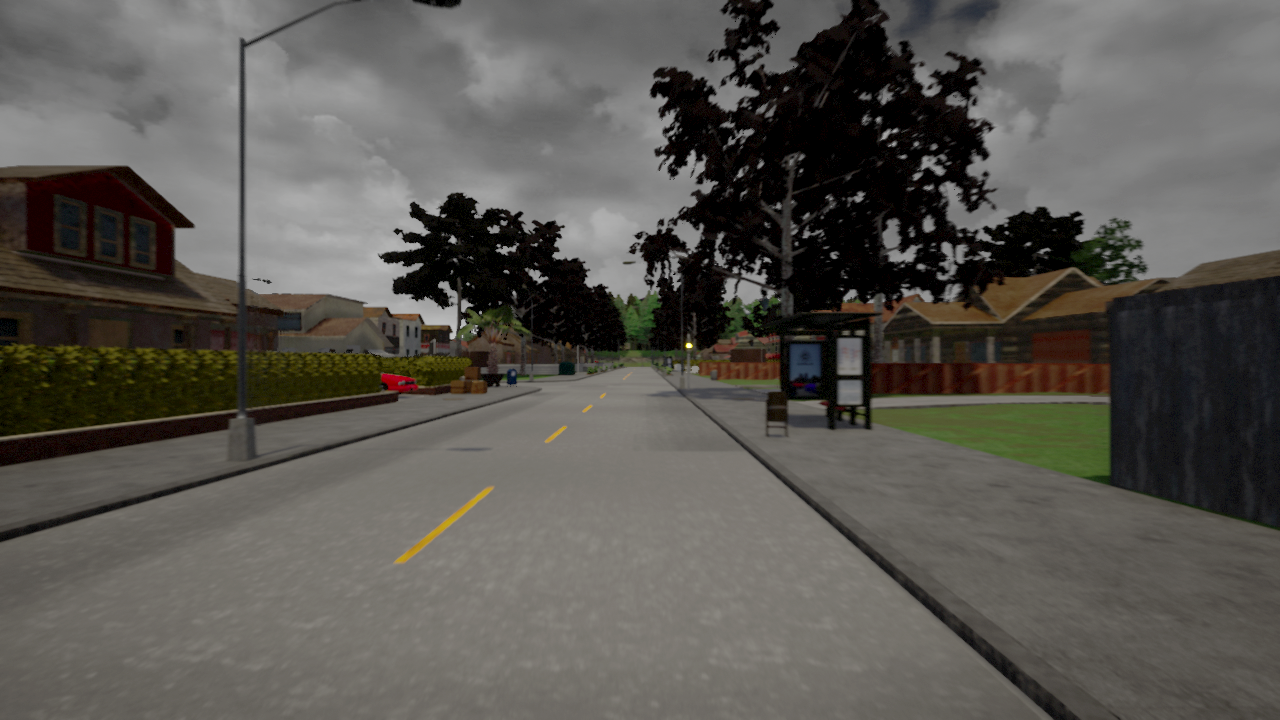yellow: (685, 336, 693, 357)
